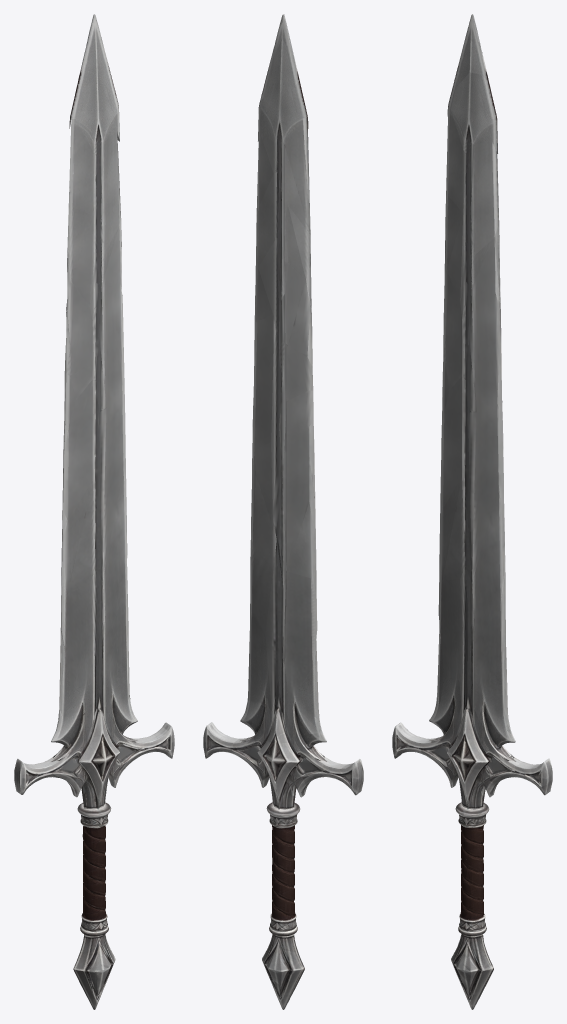
Rendered from GRS030_Remesh_10k.fbx.
3 renders of one model, left to right at view 1: azimuth 30°, elevation 25°; view 2: azimuth 150°, elevation 25°; view 3: azimuth 330°, elevation 25°, orthographic.
Parts seen in each view (by area): view 1: output_unwrapped; view 2: output_unwrapped; view 3: output_unwrapped.
Boxes of the visible parts, <box> form: output_unwrapped: <box>14,14,174,1009</box>; output_unwrapped: <box>203,14,363,1009</box>; output_unwrapped: <box>392,14,552,1009</box>.
Bounding box in the file's own units: 31.06 × 190 × 7.73.
Materials: 1 (1 with a texture image).
